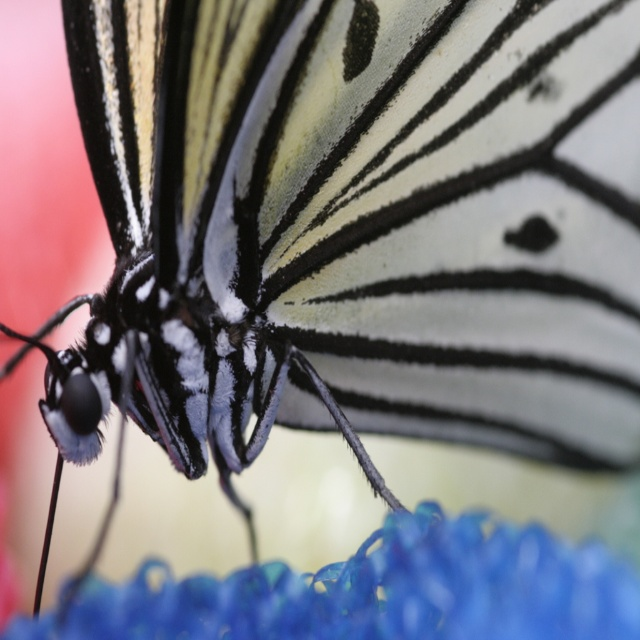Butterfly: (17, 0, 538, 640)
